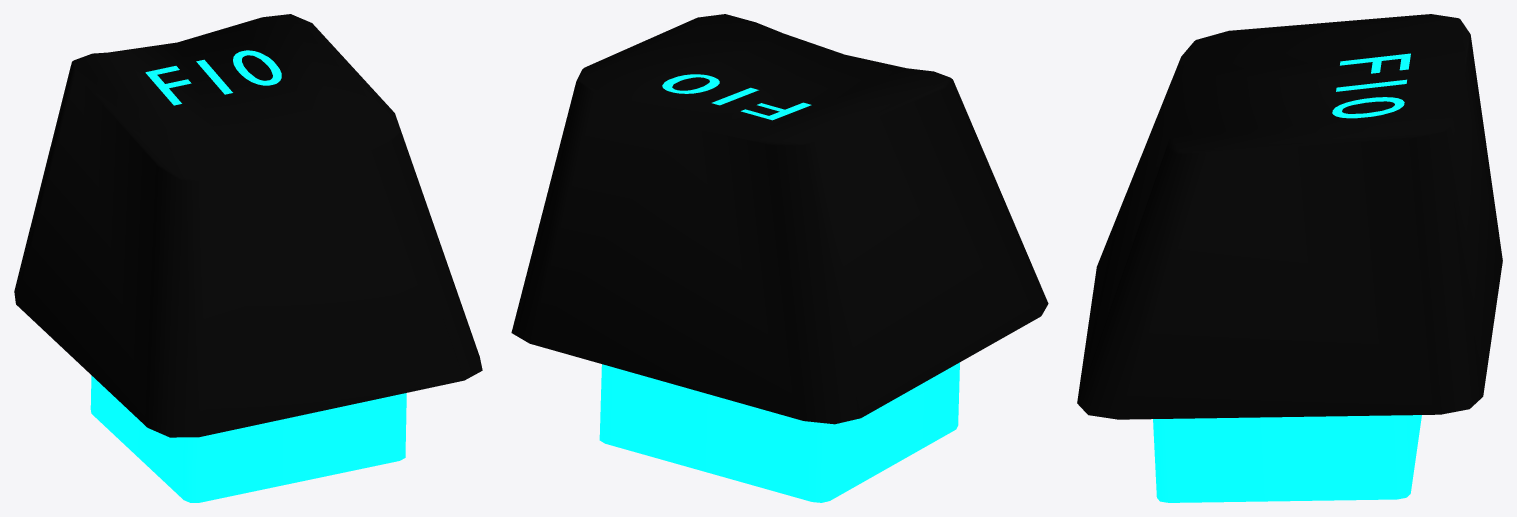
The model's file is f10-DdZYcNOx.glb.
3 renders of one model, left to right at view 1: azimuth 30°, elevation 25°; view 2: azimuth 150°, elevation 25°; view 3: azimuth 270°, elevation 25°, orthographic. The views are drawn at different scales.
Parts seen in each view (by area): view 1: StudyShelf_1110; view 2: StudyShelf_1110; view 3: StudyShelf_1110.
Part boxes in pixels (bbox=[...]): StudyShelf_1110: bbox=[14, 14, 482, 502]; StudyShelf_1110: bbox=[511, 14, 1048, 502]; StudyShelf_1110: bbox=[1077, 14, 1502, 502].
Bounding box in the file's own units: 4.35 × 4.28 × 4.35.
